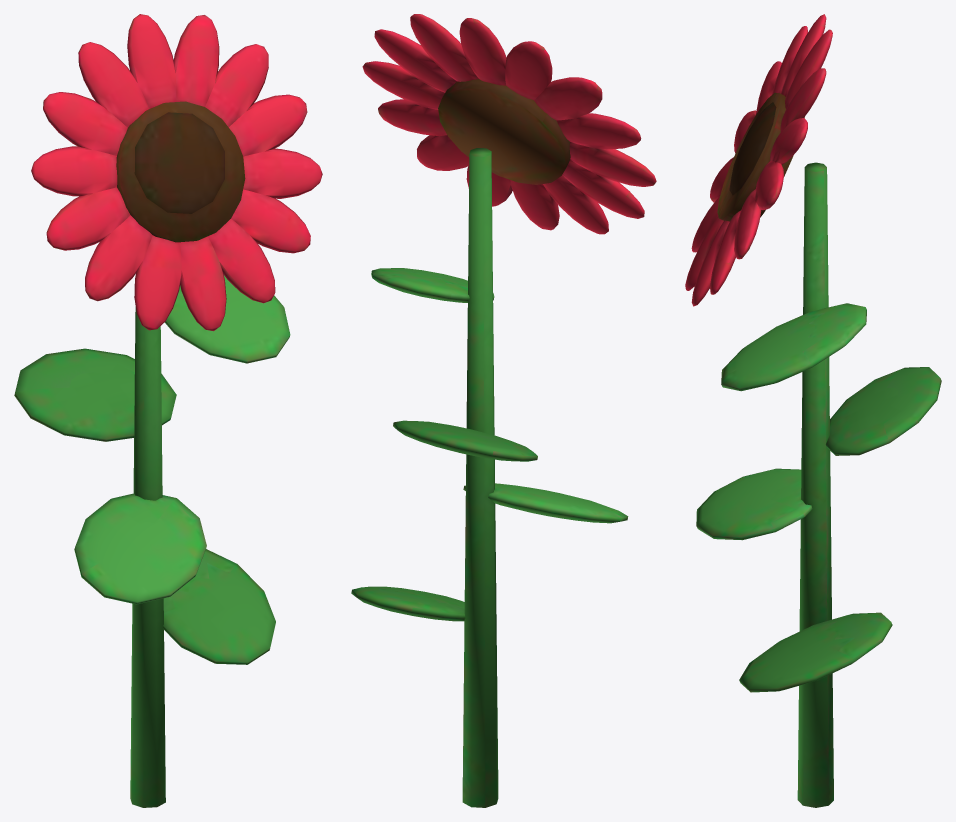
File: crop_hibiscus.glb
3 views of the same model, side by side, from view 1: azimuth 30°, elevation 25°; view 2: azimuth 150°, elevation 25°; view 3: azimuth 270°, elevation 25° (orthographic). The views are drawn at different scales.
Visible parts, largest first — view 1: crop_hibiscus, fruit; view 2: crop_hibiscus, fruit; view 3: crop_hibiscus, fruit.
Boxes of the visible parts, box(x1,y1,x2,y2) form: crop_hibiscus: box(14, 101, 290, 807); fruit: box(31, 14, 322, 331); crop_hibiscus: box(351, 79, 628, 807); fruit: box(362, 14, 656, 234); crop_hibiscus: box(696, 92, 941, 807); fruit: box(685, 14, 832, 306).
Size of the model in its own units: 0.2242 by 0.6079 by 0.1837.
Materials: 1 (1 with a texture image).
